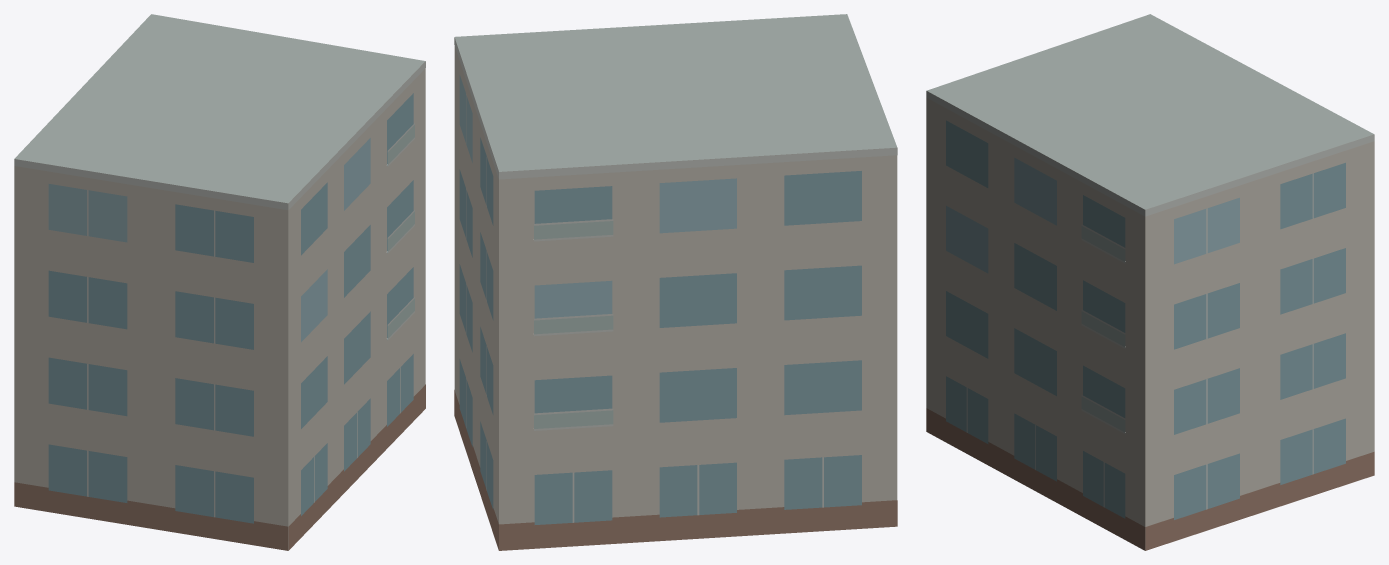
The model's file is survey-upis-32942351.glb.
3 views of the same model, side by side, from view 1: azimuth 30°, elevation 25°; view 2: azimuth 150°, elevation 25°; view 3: azimuth 270°, elevation 25° (orthographic). The views are drawn at different scales.
Visible parts, largest first — view 1: survey-upis-32942351.tmp; view 2: survey-upis-32942351.tmp; view 3: survey-upis-32942351.tmp.
Boxes of the visible parts, x1,y1,x2,y2 form: survey-upis-32942351.tmp: (14,14,425,550); survey-upis-32942351.tmp: (454,14,897,550); survey-upis-32942351.tmp: (926,14,1374,550).
Size of the model in its own units: 15.03 by 12.2 by 14.53.
